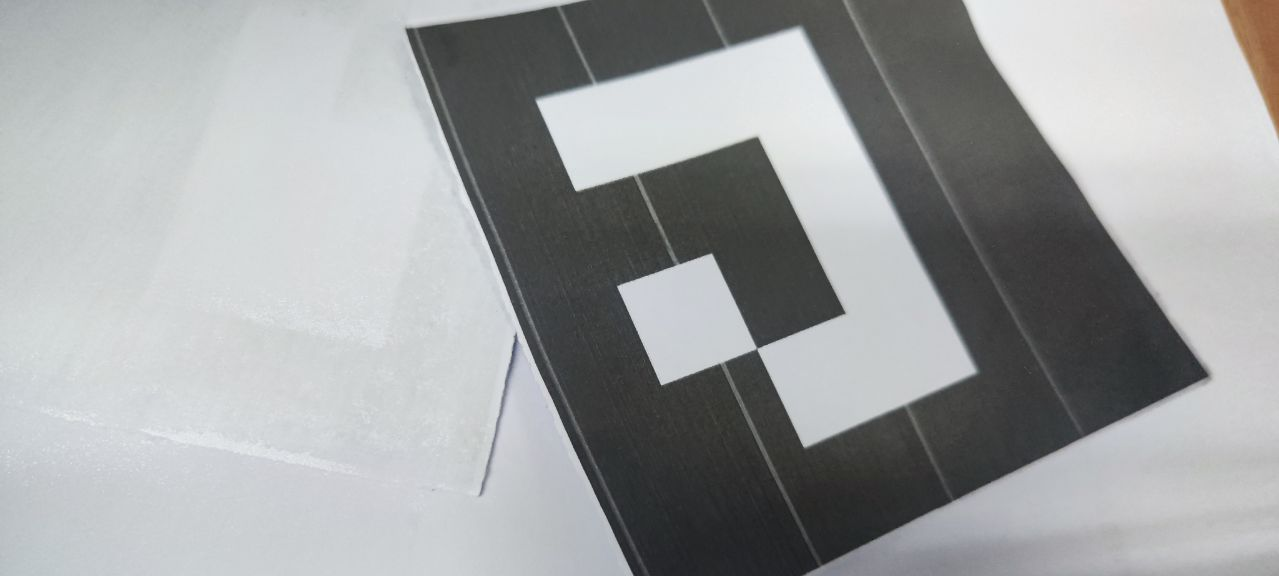mark1: (526, 22, 987, 450)
